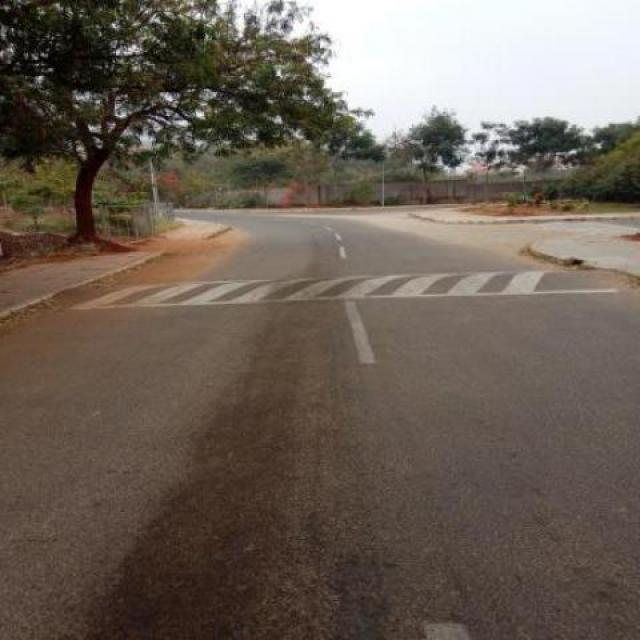Speed Bump: (50, 270, 618, 309)
